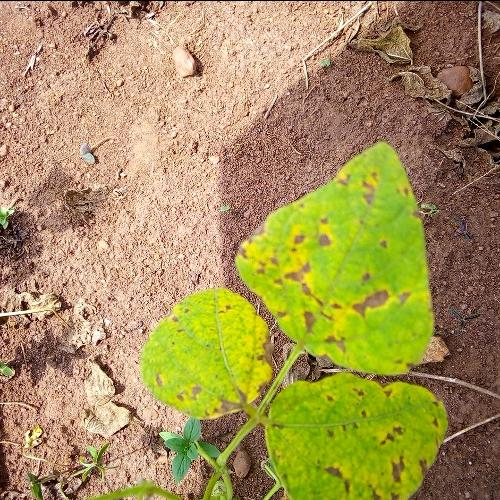embun tepung: (295, 211, 409, 334)
